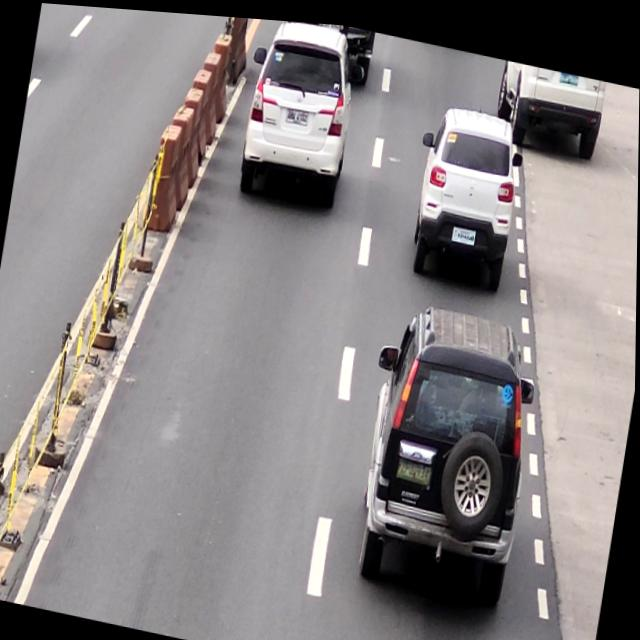Car: (347, 290, 547, 614), (234, 14, 370, 210), (404, 93, 530, 288), (492, 51, 608, 152)
License-Plate: (396, 450, 434, 479), (452, 220, 477, 238), (285, 104, 310, 122), (558, 63, 580, 78)
